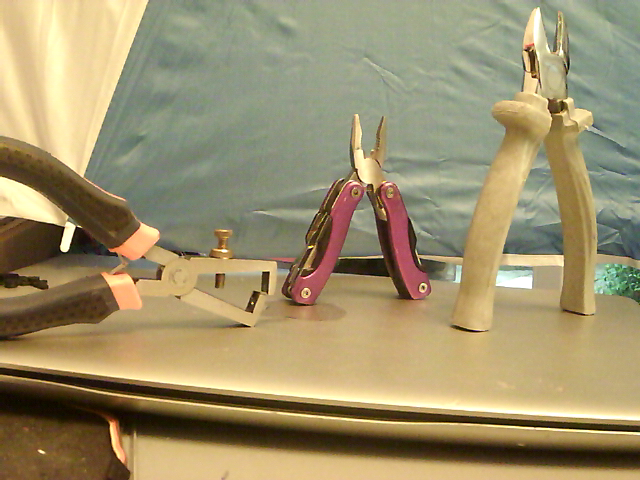pliers: (446, 6, 602, 335), (277, 108, 432, 309)
